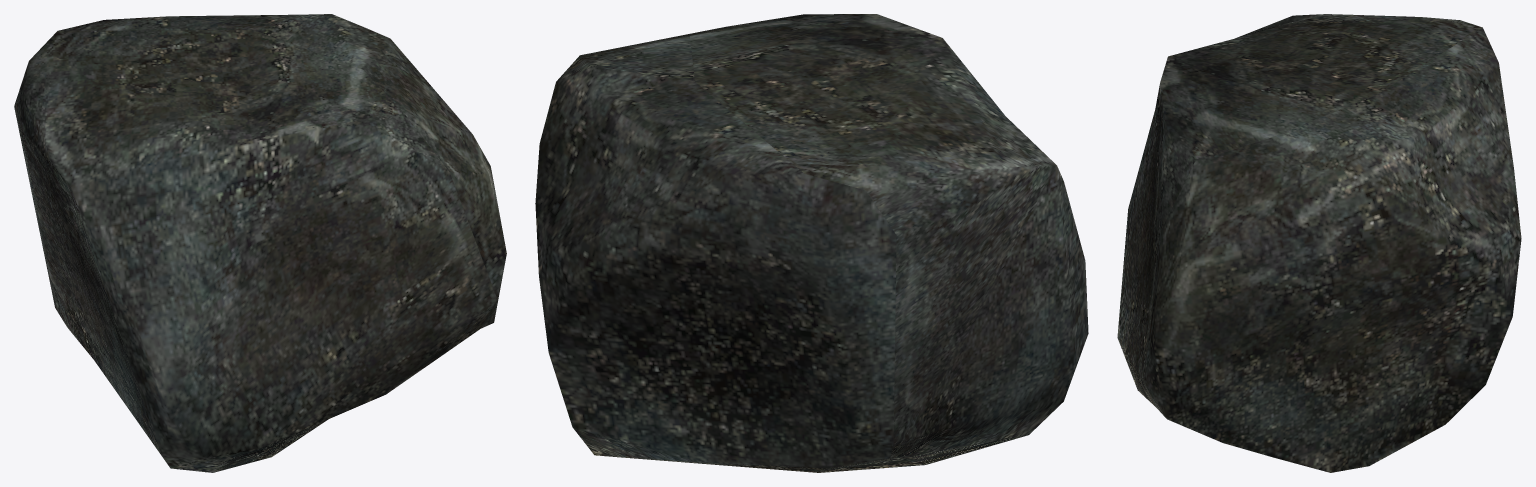
File: ruins_blackstone_debris_tiny02.dae
3 views of the same model, side by side, from view 1: azimuth 30°, elevation 25°; view 2: azimuth 150°, elevation 25°; view 3: azimuth 270°, elevation 25° (orthographic). The views are drawn at different scales.
Visible parts, largest first — view 1: 02; view 2: 02; view 3: 02.
Boxes of the visible parts, x1,y1,x2,y2 form: 02: (14, 14, 506, 472); 02: (535, 14, 1088, 472); 02: (1117, 14, 1521, 472).
Size of the model in its own units: 0.2042 by 0.173 by 0.1775.
